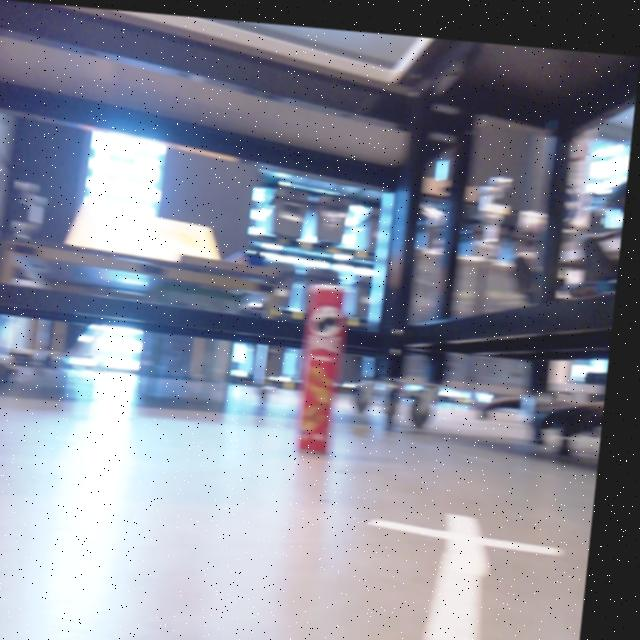redpringles: (283, 269, 367, 468)
